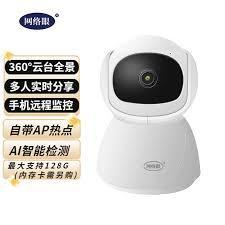maru: (101, 38, 198, 122)
